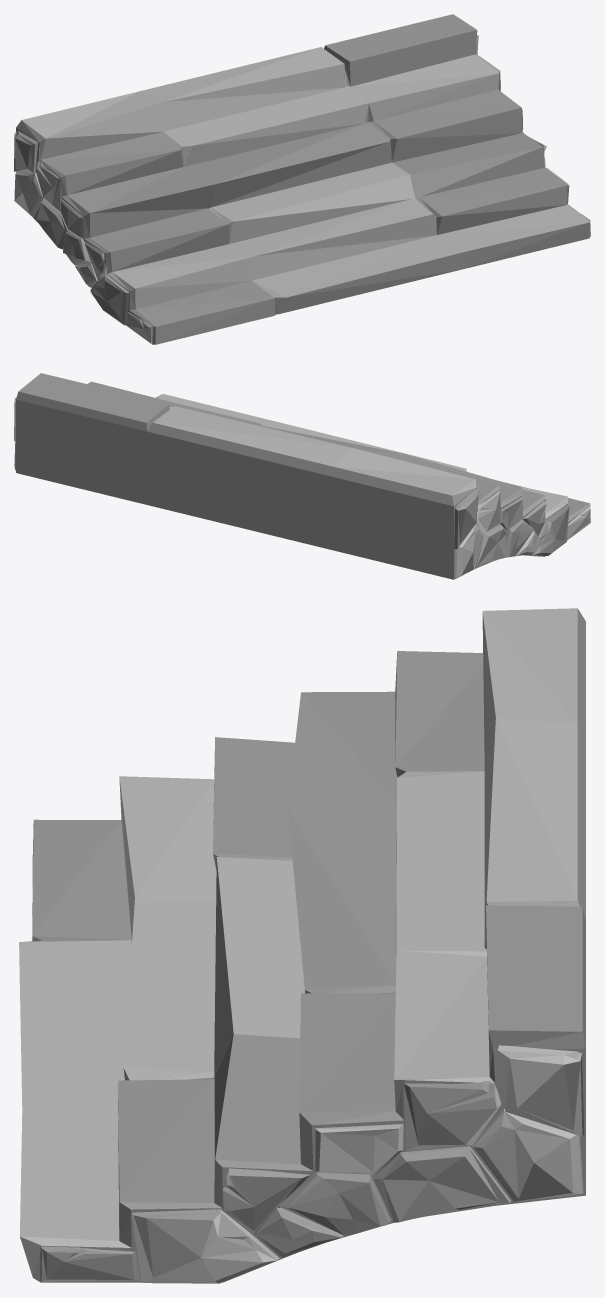
Rendered from _STAIRS_03_1.fbx.
3 views of the same model, one above another, from view 1: azimuth 30°, elevation 25°; view 2: azimuth 150°, elevation 25°; view 3: azimuth 270°, elevation 25° (orthographic). The views are drawn at different scales.
Parts seen in each view (by area): view 1: STAIRS_03_1; view 2: STAIRS_03_1; view 3: STAIRS_03_1.
Part boxes in pixels (x1,y1,x2,y2): STAIRS_03_1: [14, 14, 590, 344]; STAIRS_03_1: [14, 373, 590, 579]; STAIRS_03_1: [19, 608, 585, 1283].
Bounding box in the file's own units: 191 × 52.18 × 104.
